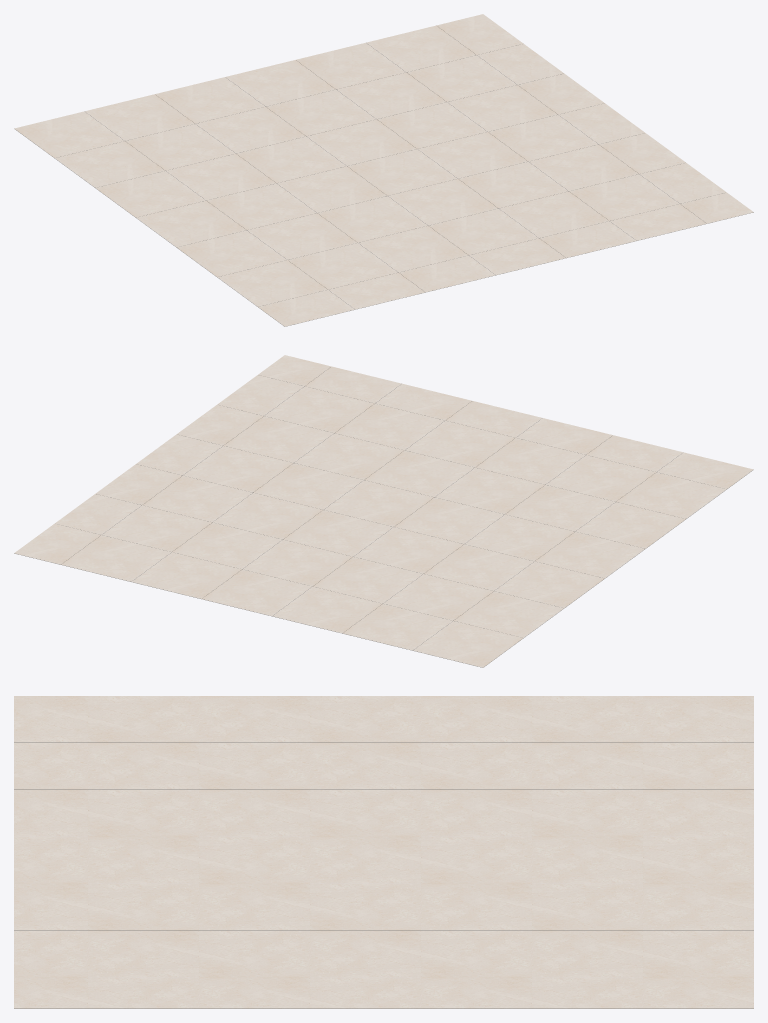
Rendered from nepal-crema-120x120.glb.
3 views of the same model, one above another, from view 1: azimuth 30°, elevation 25°; view 2: azimuth 150°, elevation 25°; view 3: azimuth 270°, elevation 25° (orthographic). The views are drawn at different scales.
Parts seen in each view (by area): view 1: Nepal Crema; view 2: Nepal Crema; view 3: Nepal Crema.
Boxes of the visible parts, bbox=[...] form: Nepal Crema: bbox=[14, 14, 753, 326]; Nepal Crema: bbox=[14, 355, 753, 667]; Nepal Crema: bbox=[14, 696, 753, 1008].
Bounding box in the file's own units: 8 × 0.003 × 8.
Materials: 2 (1 with a texture image).
